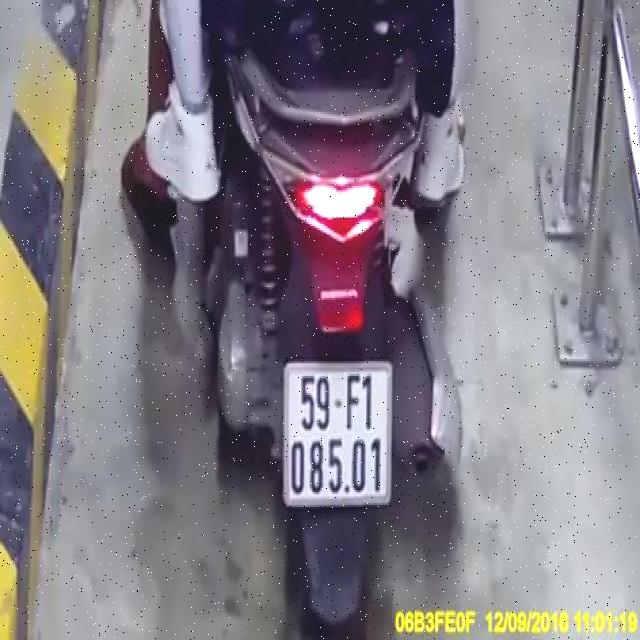0: (289, 440, 306, 496), (351, 439, 368, 494)
1: (369, 438, 383, 494), (362, 369, 373, 433)
5: (300, 370, 316, 430), (327, 436, 344, 492)
8: (309, 437, 324, 495)
9: (317, 373, 331, 432)
F: (343, 371, 364, 438)
